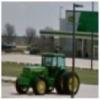tractors: (15, 54, 84, 98)
